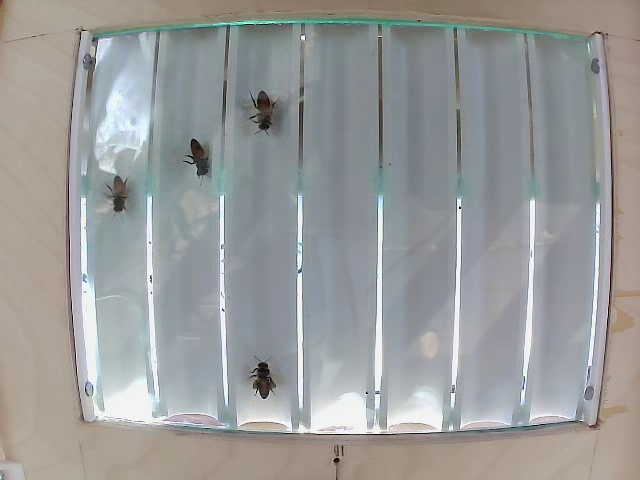bee: (239, 341, 280, 399), (176, 130, 213, 186), (244, 85, 279, 143), (106, 171, 132, 217)
